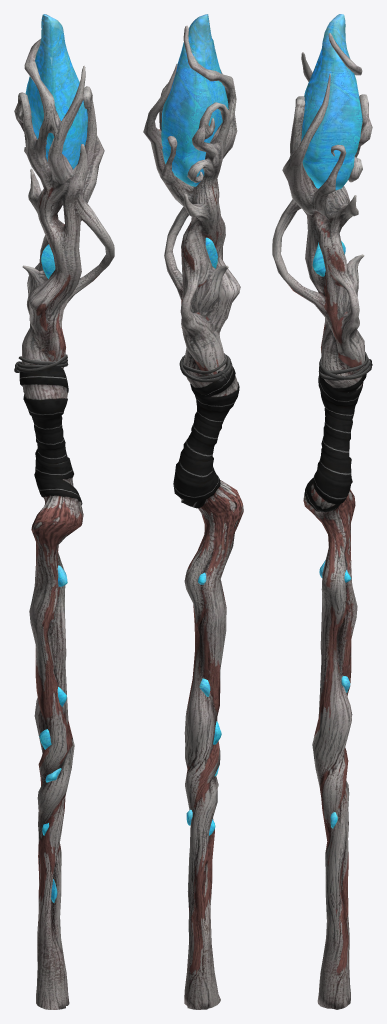
File: DeluxeStaff.glb
3 renders of one model, left to right at view 1: azimuth 90°, elevation 25°; view 2: azimuth 210°, elevation 25°; view 3: azimuth 270°, elevation 25°, orthographic.
Visible parts, largest first — view 1: DeluxeStaff; view 2: DeluxeStaff; view 3: DeluxeStaff.
Boxes of the visible parts, x1,y1,x2,y2 form: DeluxeStaff: [14, 14, 114, 1009]; DeluxeStaff: [143, 14, 243, 1009]; DeluxeStaff: [272, 14, 372, 1009].
Size of the model in its own units: 0.1177 by 1.44 by 0.1324.
1 material, 1 textured.
